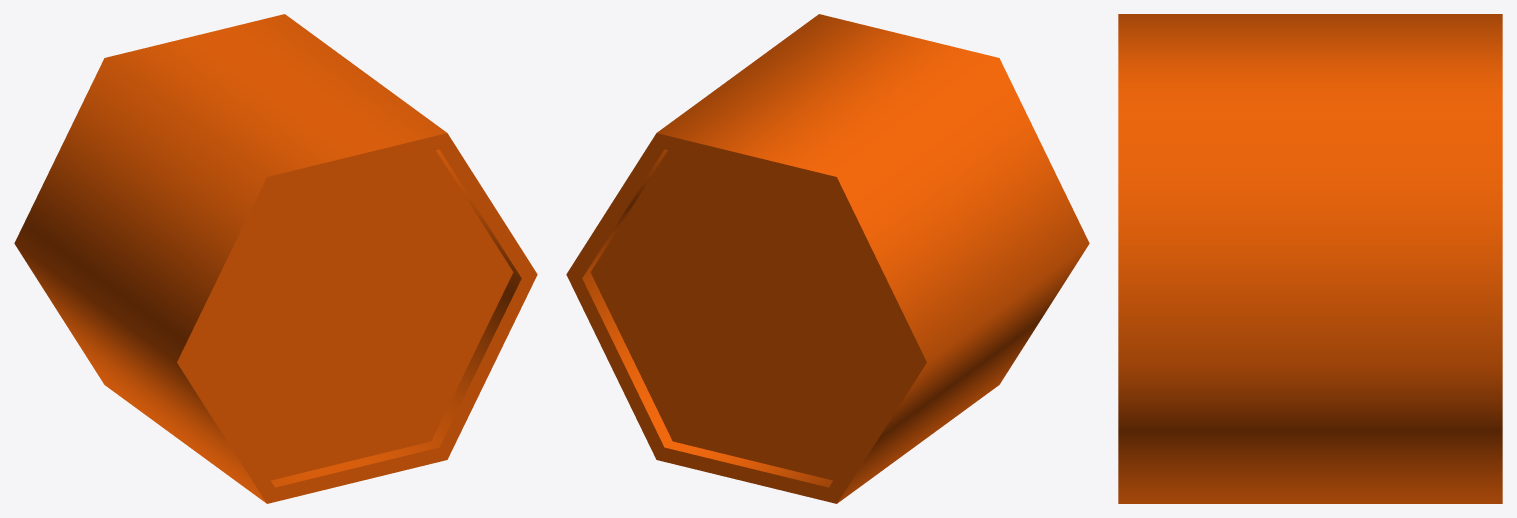
File: Hex_Player4.FBX
3 views of the same model, side by side, from view 1: azimuth 30°, elevation 25°; view 2: azimuth 150°, elevation 25°; view 3: azimuth 270°, elevation 25° (orthographic). The views are drawn at different scales.
Parts seen in each view (by area): view 1: Cylinder009; view 2: Cylinder009; view 3: Cylinder009.
Part boxes in pixels (x1,y1,x2,y2): Cylinder009: [14, 14, 537, 503]; Cylinder009: [566, 14, 1089, 503]; Cylinder009: [1118, 14, 1502, 503].
Size of the model in its own units: 25.51 by 19.92 by 22.09.
